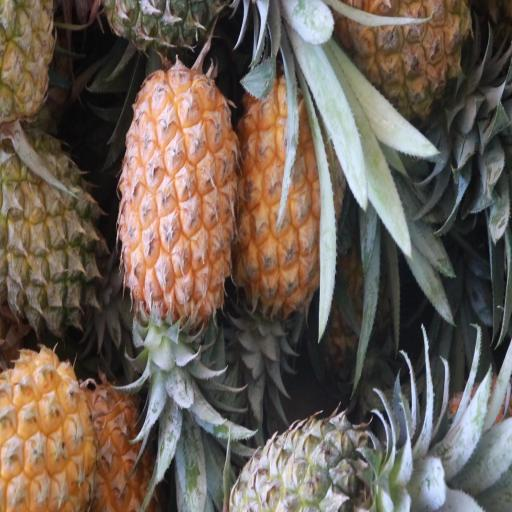------------------------------: (0, 126, 101, 330)
Pineapple - v8 v1: (117, 66, 237, 320), (237, 70, 339, 304), (337, 0, 472, 137), (0, 345, 94, 512)
